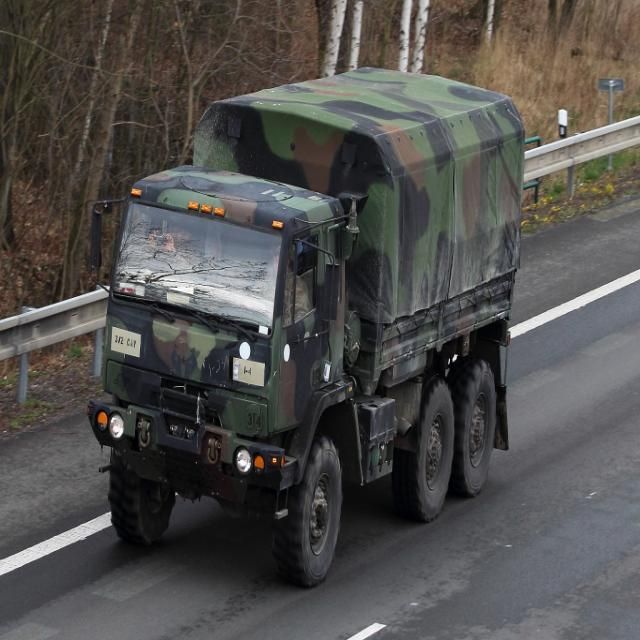tank: (86, 54, 520, 579)
